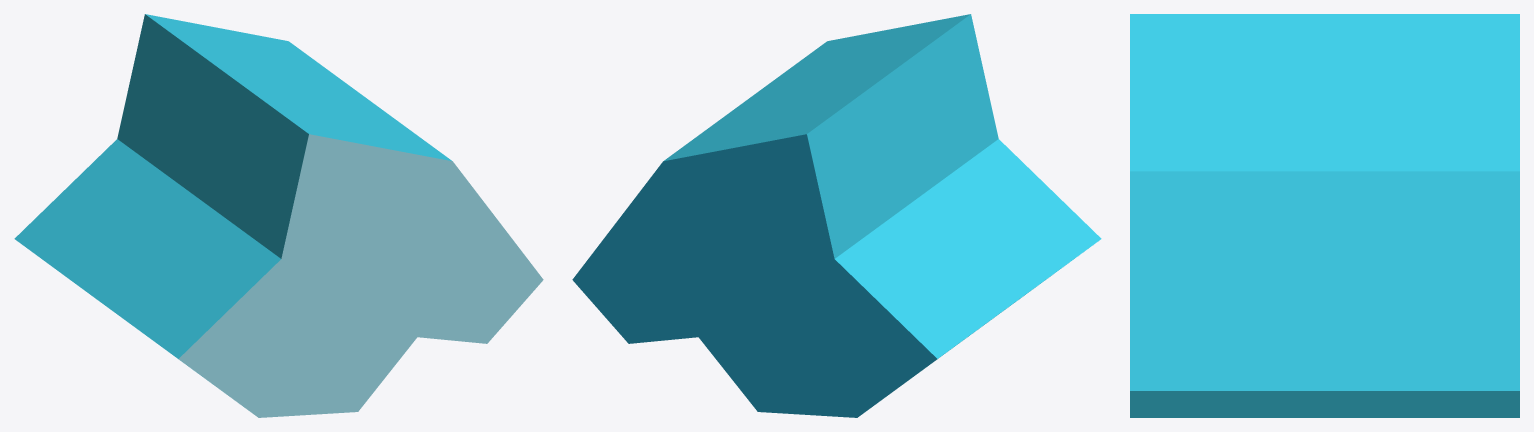
File: D_FBX_07_DesT_Wall_08.fbx
3 renders of one model, left to right at view 1: azimuth 30°, elevation 25°; view 2: azimuth 150°, elevation 25°; view 3: azimuth 270°, elevation 25°, orthographic. The views are drawn at different scales.
Parts seen in each view (by area): view 1: D_FBX_07_DesT_Wall_08; view 2: D_FBX_07_DesT_Wall_08; view 3: D_FBX_07_DesT_Wall_08.
Boxes of the visible parts, left/top/right/bottom form: D_FBX_07_DesT_Wall_08: left=14, top=14, right=543, bottom=417; D_FBX_07_DesT_Wall_08: left=572, top=14, right=1101, bottom=417; D_FBX_07_DesT_Wall_08: left=1130, top=14, right=1519, bottom=417.
Size of the model in its own units: 145 by 110 by 112.
